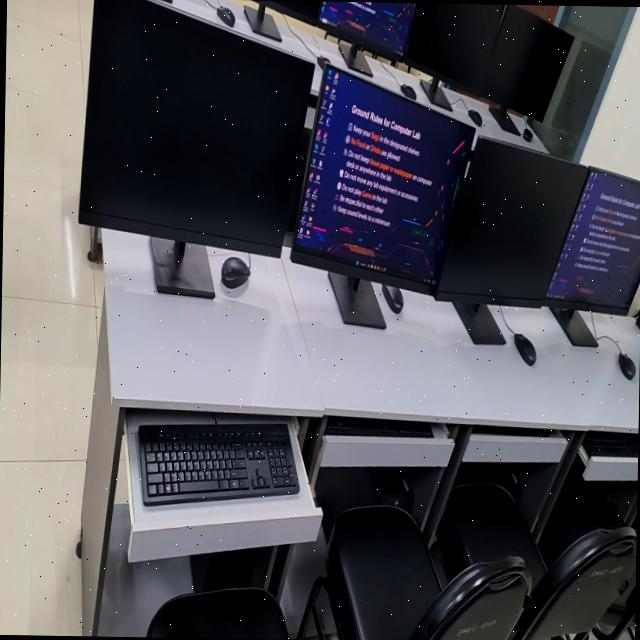Chair: (435, 482, 636, 640), (326, 505, 441, 640), (408, 555, 530, 640), (145, 586, 287, 639)
Keyboard: (137, 419, 298, 503), (581, 431, 638, 457)
Monitor: (78, 0, 312, 255), (290, 63, 474, 292), (432, 136, 588, 307), (544, 168, 640, 308), (476, 3, 572, 120), (404, 2, 503, 92), (318, 0, 414, 59), (255, 0, 320, 23)
Mouse: (220, 255, 249, 287), (512, 332, 535, 364), (380, 283, 402, 312), (617, 351, 634, 379), (215, 5, 233, 26), (399, 82, 415, 98), (522, 127, 531, 140), (473, 112, 478, 121)
